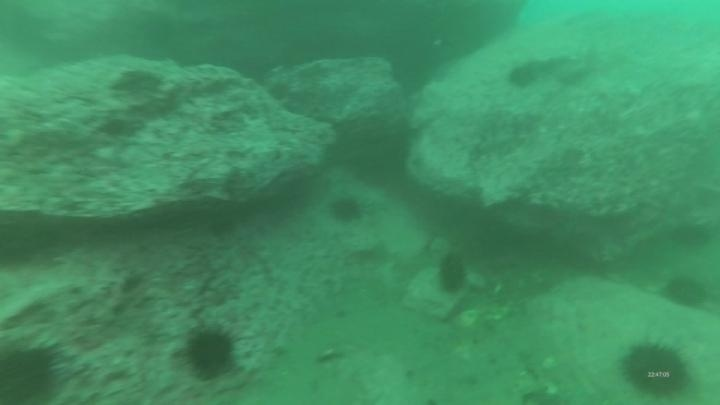echinus: (617, 336, 694, 401), (0, 338, 66, 405), (181, 323, 240, 382), (660, 272, 711, 312), (434, 250, 470, 298), (327, 193, 366, 226), (505, 61, 540, 92)
